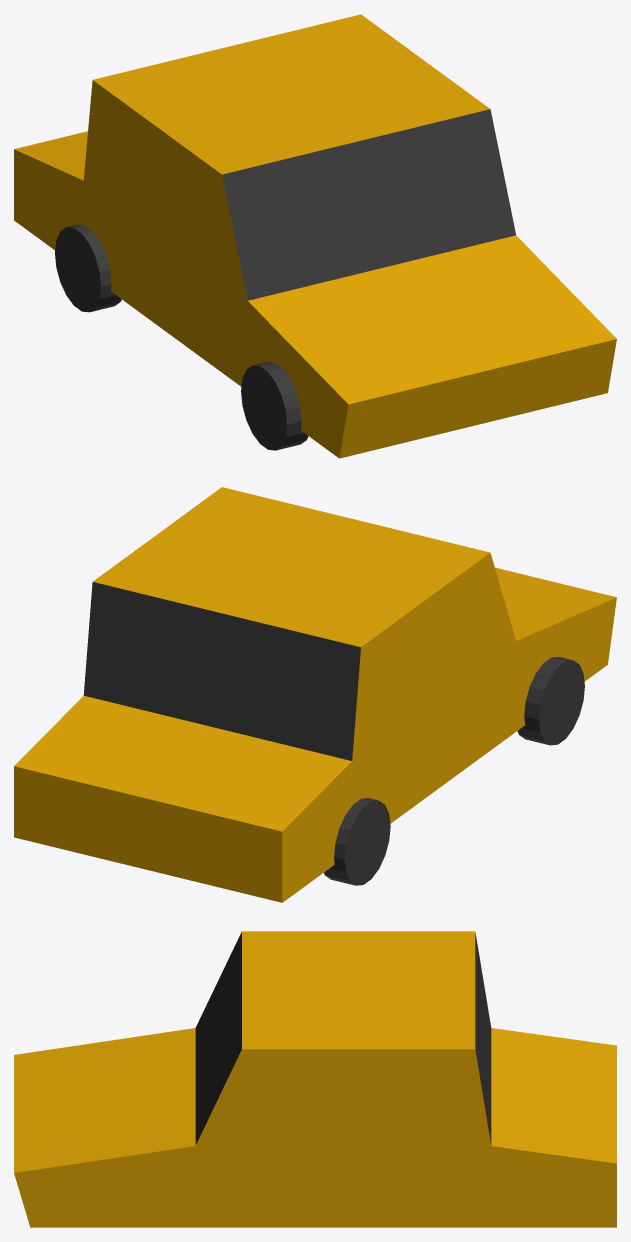
The model's file is Environment_YellowCar.fbx.
3 views of the same model, one above another, from view 1: azimuth 30°, elevation 25°; view 2: azimuth 150°, elevation 25°; view 3: azimuth 270°, elevation 25° (orthographic). The views are drawn at different scales.
Parts seen in each view (by area): view 1: YellowCar; view 2: YellowCar; view 3: YellowCar.
Part boxes in pixels (x1,y1,x2,y2): YellowCar: (14,14,616,458); YellowCar: (14,487,616,902); YellowCar: (14,931,616,1227).
Size of the model in its own units: 2.35 by 1.82 by 4.81.
